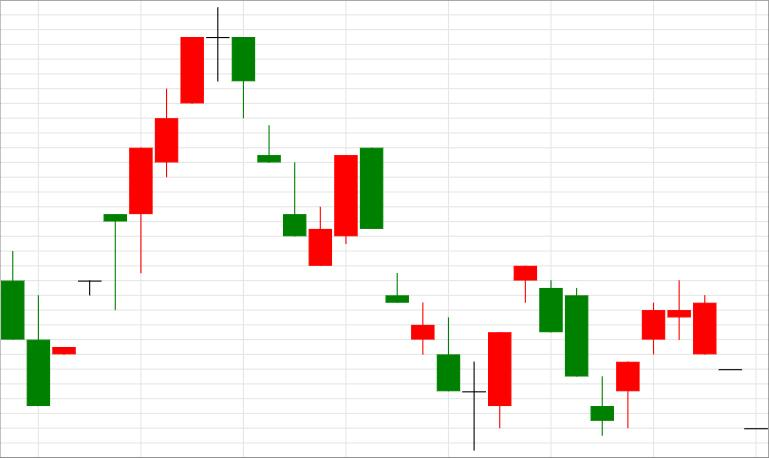evening_star_fall: (52, 7, 255, 355)
